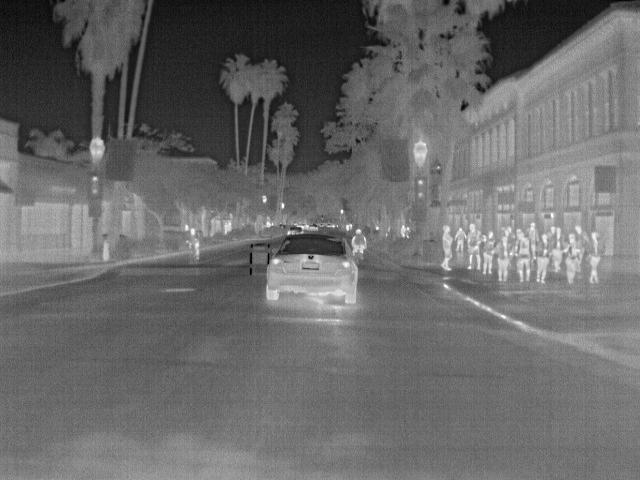car: (262, 235, 358, 306)
person: (584, 230, 606, 284), (511, 230, 533, 282), (491, 234, 514, 282), (463, 223, 484, 271), (532, 231, 551, 282), (563, 231, 581, 283), (440, 223, 457, 272), (482, 228, 498, 276), (185, 224, 204, 264), (347, 226, 368, 255), (453, 225, 470, 252)
